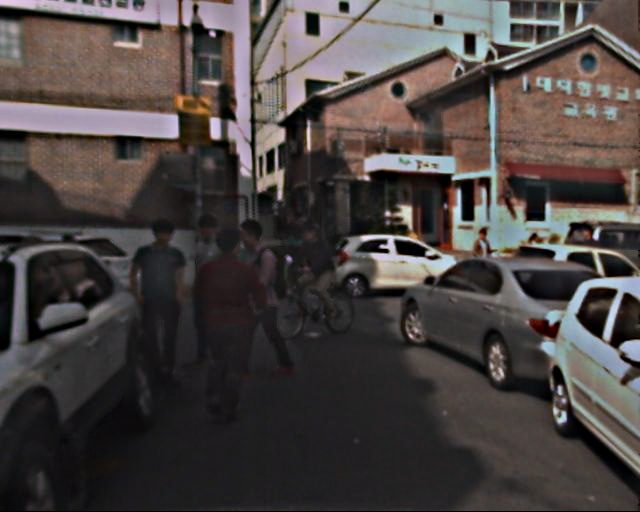person: (187, 230, 265, 420), (130, 218, 202, 378), (225, 221, 289, 376), (178, 218, 243, 364), (295, 223, 335, 323), (470, 227, 496, 289)
